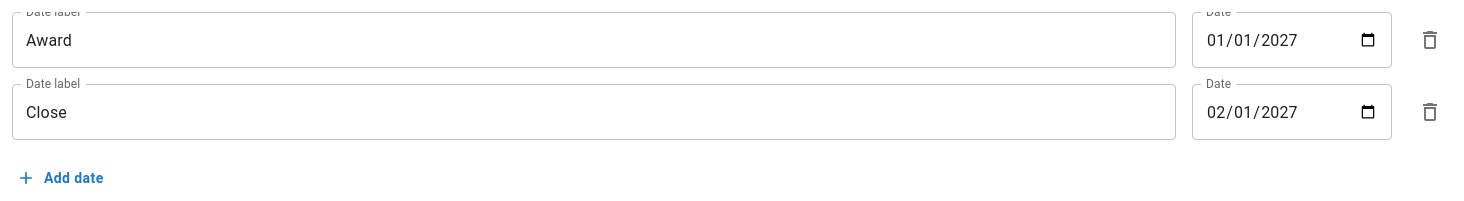
KeyDatesEditor › removes a row
The width and height of the screenshot is (1464, 201).
Click the button named "Remove Award" at [1430, 40], box [1408, 18, 1452, 62]
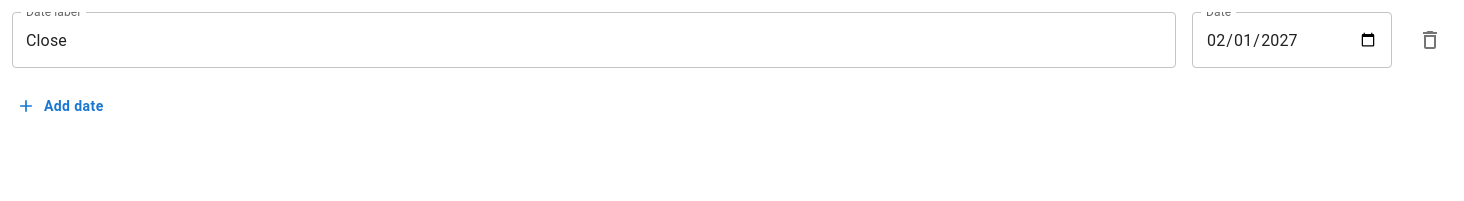
Now the number of elements with test id "key-date-row" is 1, box [12, 12, 1452, 68]
Now the field showing "Close" is shown, box [12, 12, 1176, 68]
